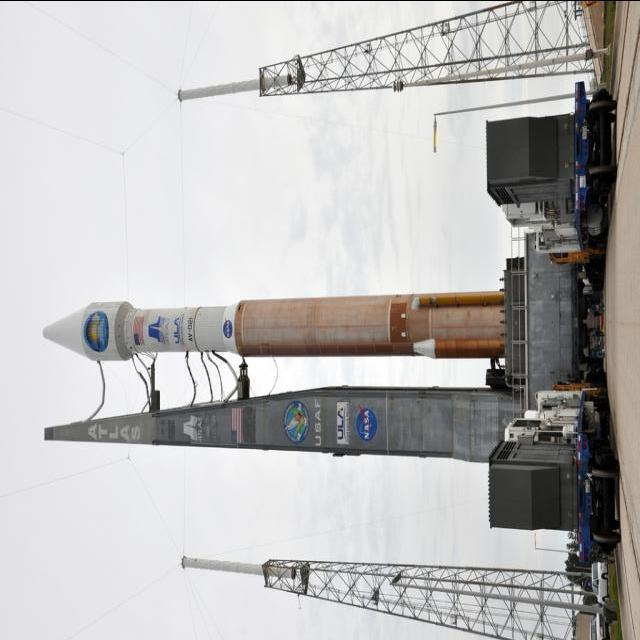Missile: (43, 295, 507, 365)
